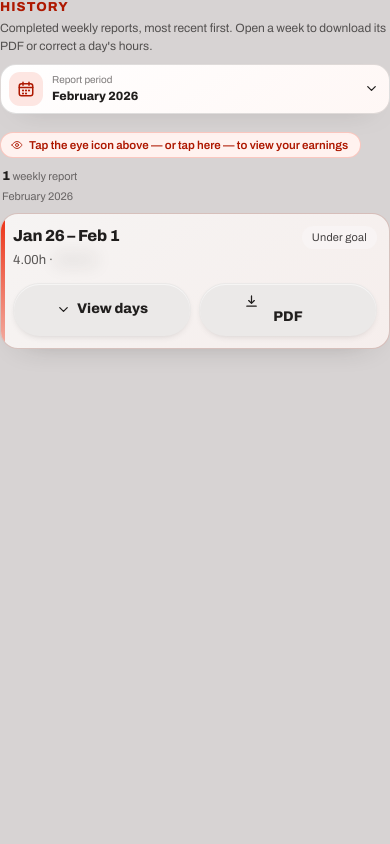
Scenario: opening the editor › saves a forgotten fuel charge without requiring hours
Click the button "View days" at (102, 309), box [13,282,191,336]
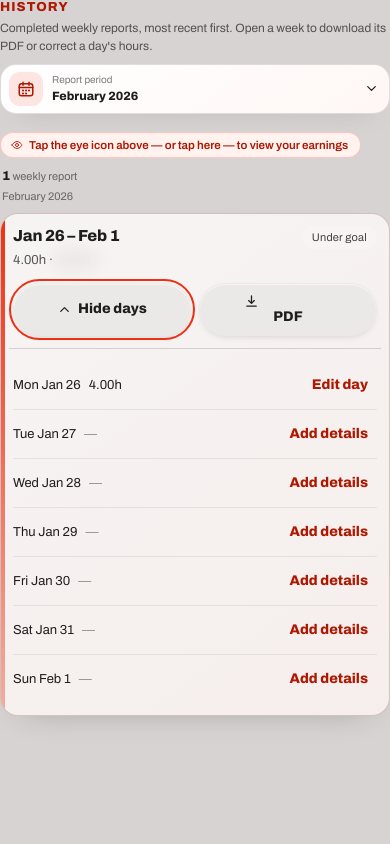
Click the button with aria-label "Add hours for Tue" at (329, 434), box [280,412,377,456]
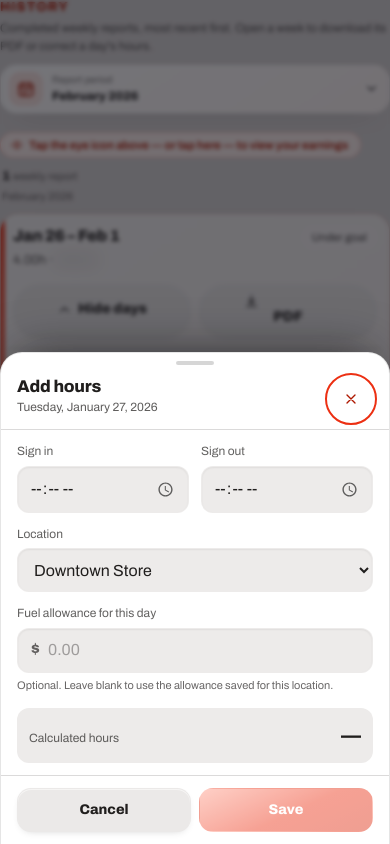
Type "24.50" into the number field labelled "Fuel allowance for this day" at (195, 650), box [17,628,373,673]
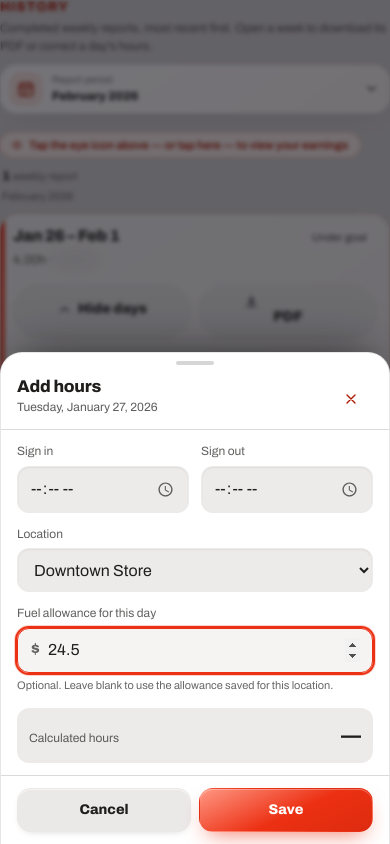
Expected: the button "Save" is enabled
Click the button "Save" at (286, 810), box [199,788,373,832]
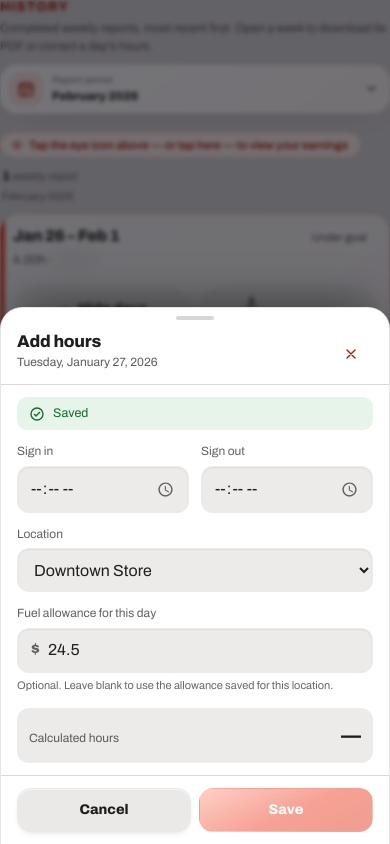
Expected: the text "Saved" is shown, [53,406,88,420]
